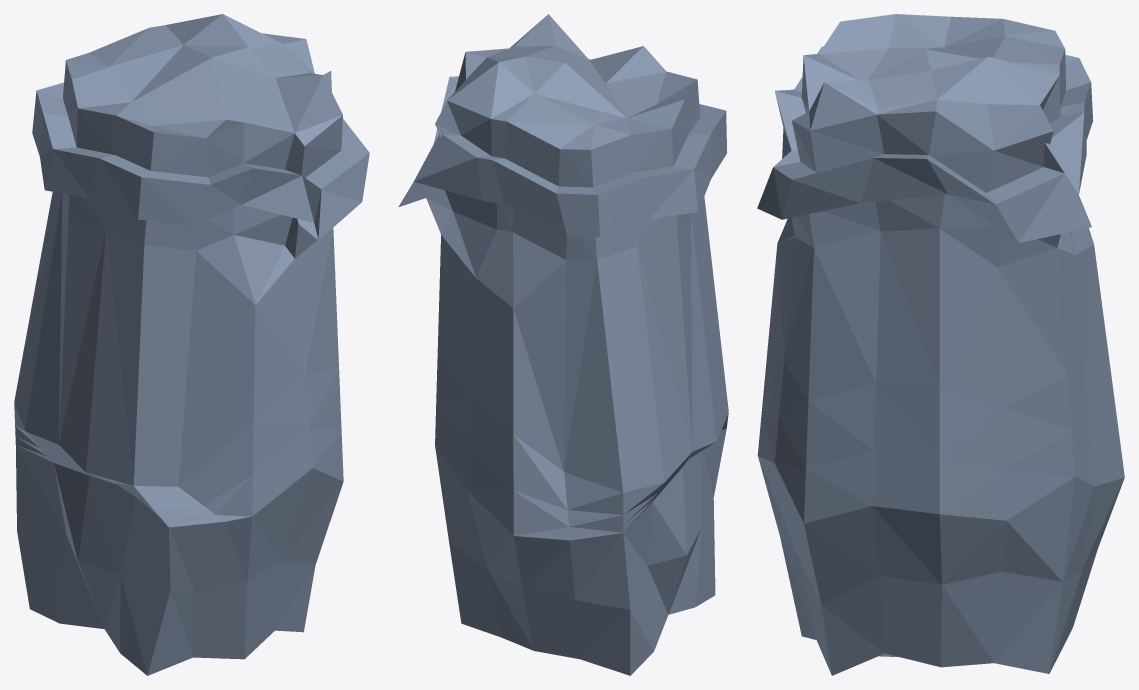
Rendered from Plainstone 6.fbx.
The picture shows the model from 3 angles, left to right: view 1: azimuth 30°, elevation 25°; view 2: azimuth 150°, elevation 25°; view 3: azimuth 270°, elevation 25°; orthographic projection. The views are drawn at different scales.
Visible parts, largest first — view 1: Plainstone Size 6; view 2: Plainstone Size 6; view 3: Plainstone Size 6.
Part boxes in pixels (<box>): Plainstone Size 6: <box>14,14,369,675</box>; Plainstone Size 6: <box>398,14,728,675</box>; Plainstone Size 6: <box>757,14,1124,675</box>.
Size of the model in its own units: 762 by 1541 by 824.
